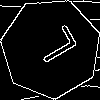L: (26, 23, 79, 70)
